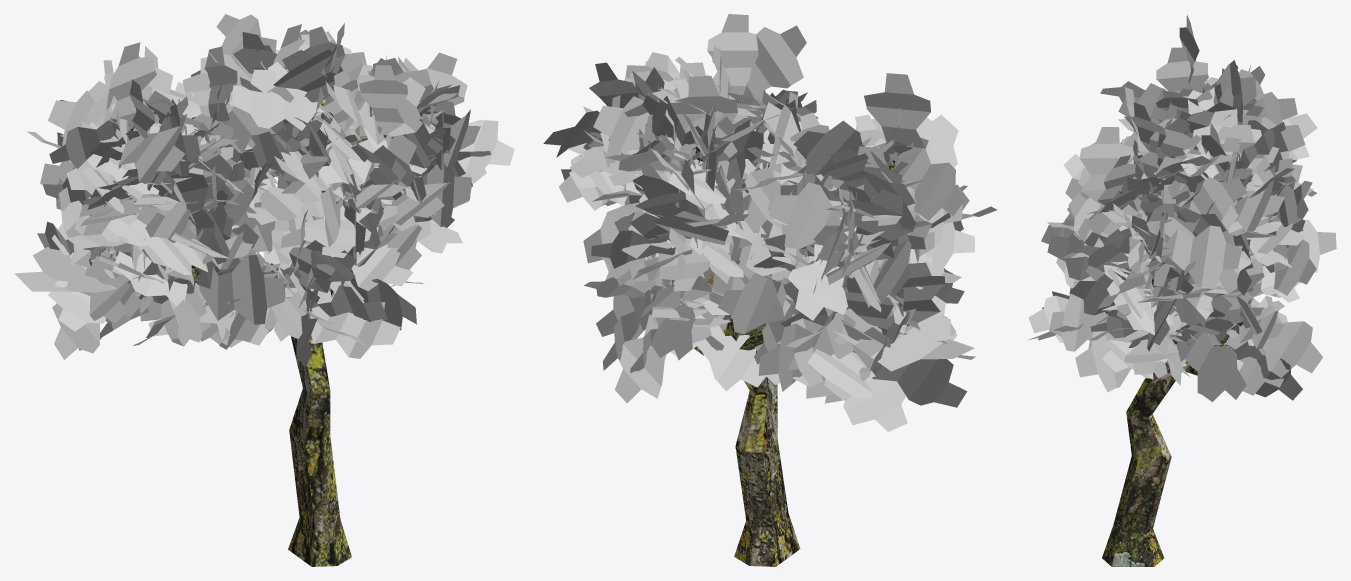
Rendered from Tree4.fbx.
3 views of the same model, side by side, from view 1: azimuth 30°, elevation 25°; view 2: azimuth 150°, elevation 25°; view 3: azimuth 270°, elevation 25° (orthographic). The views are drawn at different scales.
Parts seen in each view (by area): view 1: Cube, Tree Branch.146, Tree Branch.344, Tree Branch.001, Tree Branch.328, Tree Branch.356, Tree Branch.349, Cube|Tree Branch.001|Dupli|193, Cube|Tree Branch.001|Dupli|353, Tree Branch.019, Tree Branch.137, Tree Branch.359 (+64 smaller); view 2: Cube, Tree Branch.001, Cube|Tree Branch.001|Dupli|354, Cube|Tree Branch.001|Dupli|347, Cube|Tree Branch.001|Dupli|448, Cube|Tree Branch.001|Dupli|357, Cube|Tree Branch.001|Dupli|113, Cube|Tree Branch.001|Dupli|350, Cube|Tree Branch.001|Dupli|40, Cube|Tree Branch.001|Dupli|212, Tree Branch.439, Cube|Tree Branch.001|Dupli|356 (+59 smaller); view 3: Cube, Cube|Tree Branch.001|Dupli|359, Cube|Tree Branch.001|Dupli|215, Tree Branch.361, Tree Branch.073, Tree Branch.326, Tree Branch.182, Cube|Tree Branch.001|Dupli|410, Cube|Tree Branch.001|Dupli|71, Cube|Tree Branch.001|Dupli|64, Cube|Tree Branch.001|Dupli|349, Tree Branch.300 (+66 smaller).
Part boxes in pixels (<box>): Cube: <box>89,101,386,566</box>; Tree Branch.146: <box>199,255,284,324</box>; Tree Branch.344: <box>232,69,318,130</box>; Tree Branch.001: <box>14,247,121,292</box>; Tree Branch.328: <box>359,65,407,135</box>; Tree Branch.356: <box>109,42,156,129</box>; Tree Branch.349: <box>273,49,336,102</box>; Cube|Tree Branch.001|Dupli|193: <box>310,302,400,358</box>; Cube|Tree Branch.001|Dupli|353: <box>119,126,184,183</box>; Tree Branch.019: <box>457,119,514,175</box>; Tree Branch.137: <box>80,249,127,323</box>; Tree Branch.359: <box>49,118,130,168</box>; Cube: <box>694,102,909,566</box>; Tree Branch.001: <box>777,315,974,371</box>; Cube|Tree Branch.001|Dupli|354: <box>864,73,930,158</box>; Cube|Tree Branch.001|Dupli|347: <box>742,25,806,124</box>; Cube|Tree Branch.001|Dupli|448: <box>769,182,849,261</box>; Cube|Tree Branch.001|Dupli|357: <box>893,148,964,220</box>; Cube|Tree Branch.001|Dupli|113: <box>871,359,967,407</box>; Cube|Tree Branch.001|Dupli|350: <box>707,14,765,101</box>; Cube|Tree Branch.001|Dupli|40: <box>718,273,797,334</box>; Cube|Tree Branch.001|Dupli|212: <box>670,325,765,391</box>; Tree Branch.439: <box>788,244,847,320</box>; Cube|Tree Branch.001|Dupli|356: <box>793,120,906,175</box>; Cube: <box>1102,254,1243,566</box>; Cube|Tree Branch.001|Dupli|359: <box>1153,225,1241,289</box>; Cube|Tree Branch.001|Dupli|215: <box>1227,305,1322,377</box>; Tree Branch.361: <box>1153,225,1241,286</box>; Tree Branch.073: <box>1166,332,1246,398</box>; Tree Branch.326: <box>1079,127,1134,205</box>; Tree Branch.182: <box>1049,294,1106,351</box>; Cube|Tree Branch.001|Dupli|410: <box>1179,177,1247,221</box>; Cube|Tree Branch.001|Dupli|71: <box>1185,332,1246,401</box>; Cube|Tree Branch.001|Dupli|64: <box>1075,330,1167,392</box>; Cube|Tree Branch.001|Dupli|349: <box>1136,118,1193,177</box>; Tree Branch.300: <box>1262,239,1316,295</box>.
Bounding box in the file's own units: 1287 × 1515 × 903.
